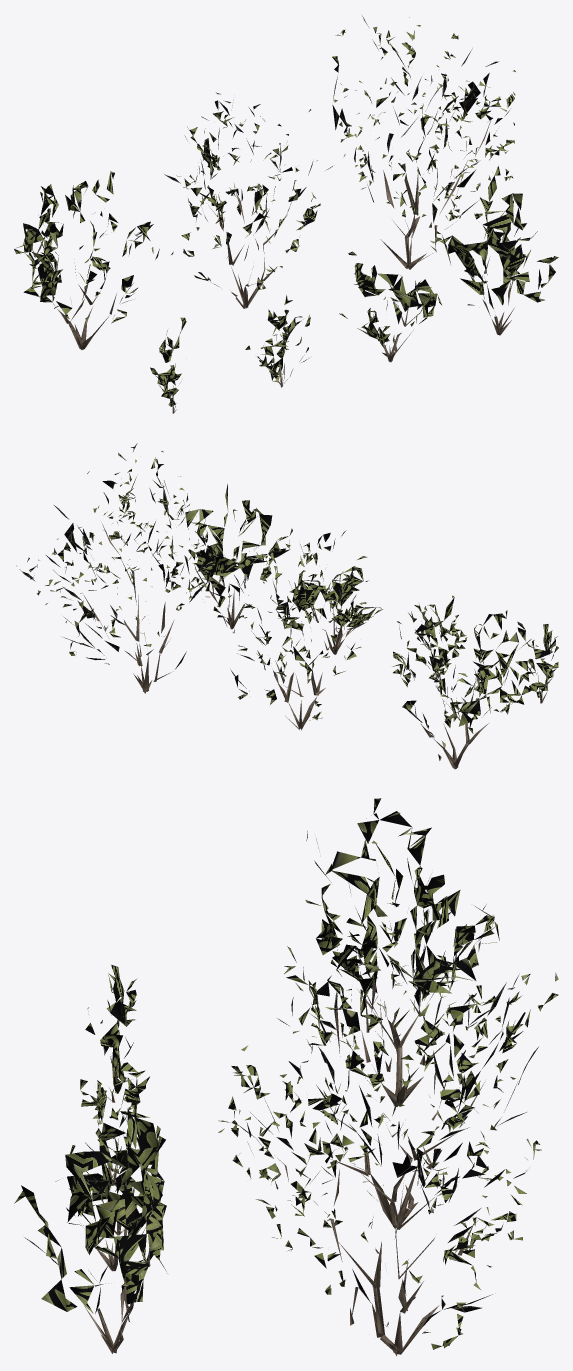
File: searsia_lucida_far.glb
The picture shows the model from 3 angles, top to bottom: view 1: azimuth 30°, elevation 25°; view 2: azimuth 150°, elevation 25°; view 3: azimuth 270°, elevation 25°; orthographic projection. The views are drawn at different scales.
Parts seen in each view (by area): view 1: searsia_lucida_a_LOD0, searsia_lucida_c_LOD0, searsia_lucida_d_LOD0, searsia_lucida_b_LOD0, searsia_lucida_e_LOD0, searsia_lucida_f_LOD0, searsia_lucida_g_LOD0; view 2: searsia_lucida_a_LOD0, searsia_lucida_c_LOD0, searsia_lucida_b_LOD0, searsia_lucida_d_LOD0, searsia_lucida_e_LOD0, searsia_lucida_f_LOD0, searsia_lucida_g_LOD0; view 3: searsia_lucida_a_LOD0, searsia_lucida_c_LOD0, searsia_lucida_d_LOD0, searsia_lucida_b_LOD0, searsia_lucida_e_LOD0, searsia_lucida_g_LOD0, searsia_lucida_f_LOD0.
Part boxes in pixels (x1,y1,x2,y2): searsia_lucida_a_LOD0: (308,15,515,269); searsia_lucida_c_LOD0: (14,171,190,349); searsia_lucida_d_LOD0: (436,175,558,335); searsia_lucida_b_LOD0: (164,92,332,308); searsia_lucida_e_LOD0: (339,251,441,362); searsia_lucida_f_LOD0: (245,295,310,387); searsia_lucida_g_LOD0: (150,317,186,413); searsia_lucida_a_LOD0: (16,443,262,693); searsia_lucida_c_LOD0: (392,595,557,769); searsia_lucida_b_LOD0: (213,530,368,730); searsia_lucida_d_LOD0: (184,484,292,629); searsia_lucida_e_LOD0: (290,556,382,654); searsia_lucida_f_LOD0: (407,604,467,678); searsia_lucida_g_LOD0: (517,621,558,703); searsia_lucida_a_LOD0: (218,960,541,1356); searsia_lucida_c_LOD0: (284,798,499,1106); searsia_lucida_d_LOD0: (14,1108,167,1353); searsia_lucida_b_LOD0: (277,869,558,1229); searsia_lucida_e_LOD0: (55,1062,165,1271); searsia_lucida_g_LOD0: (85,964,137,1102); searsia_lucida_f_LOD0: (80,1070,160,1185).
Size of the model in its own units: 4.71 by 2.22 by 2.78.
3 materials, 3 textured.
